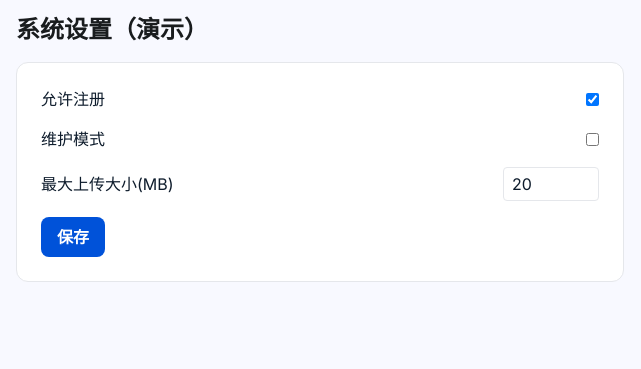
it: AdminSettingsPage › 点击保存按钮显示保存成功提示
Click the button "保存": (73, 237) [41, 217, 105, 257]
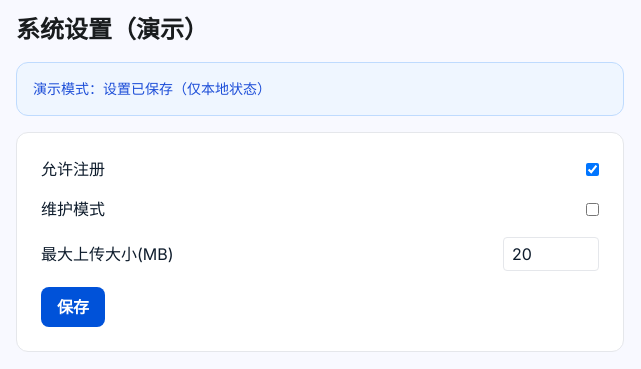
Expected: the text "演示模式：设置已保存（仅本地状态）" is shown, [16, 62, 624, 116]
